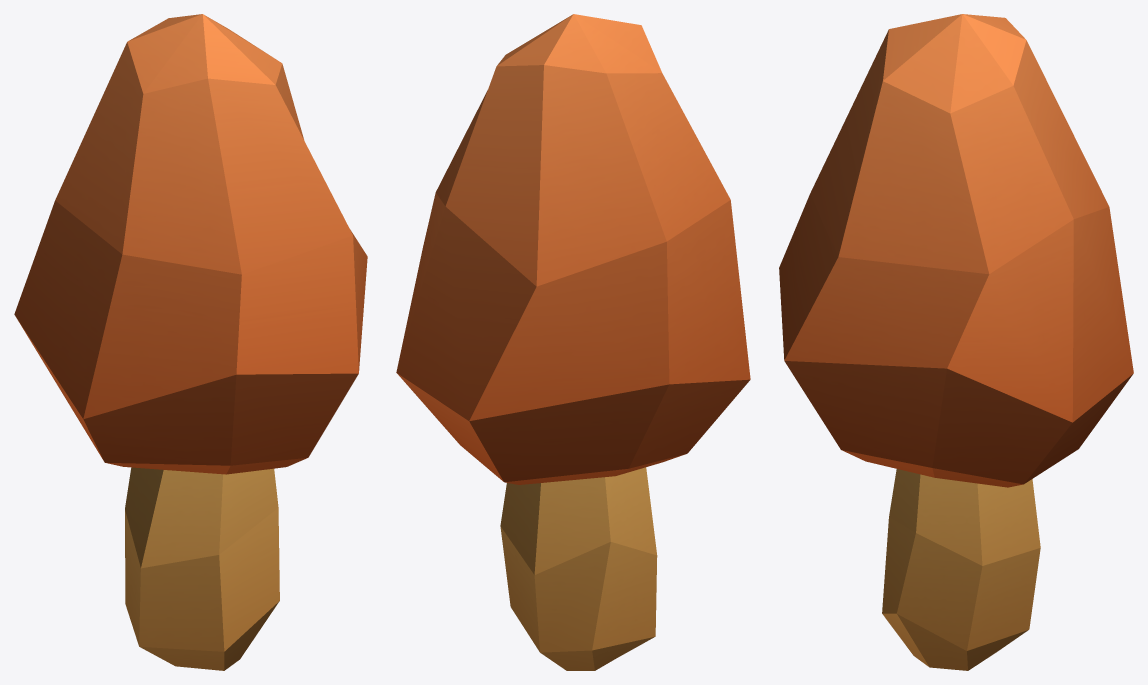
The model's file is mushroom_orange_giant.fbx.
3 renders of one model, left to right at view 1: azimuth 30°, elevation 25°; view 2: azimuth 150°, elevation 25°; view 3: azimuth 270°, elevation 25°, orthographic.
Parts seen in each view (by area): view 1: mushroom_orange_giant; view 2: mushroom_orange_giant; view 3: mushroom_orange_giant.
Part boxes in pixels (x1=…): mushroom_orange_giant: x1=14, y1=14, x2=367, y2=670; mushroom_orange_giant: x1=396, y1=14, x2=750, y2=670; mushroom_orange_giant: x1=779, y1=14, x2=1133, y2=670.
Bounding box in the file's own units: 2 × 4 × 2.
Materials: 1 (1 with a texture image).
